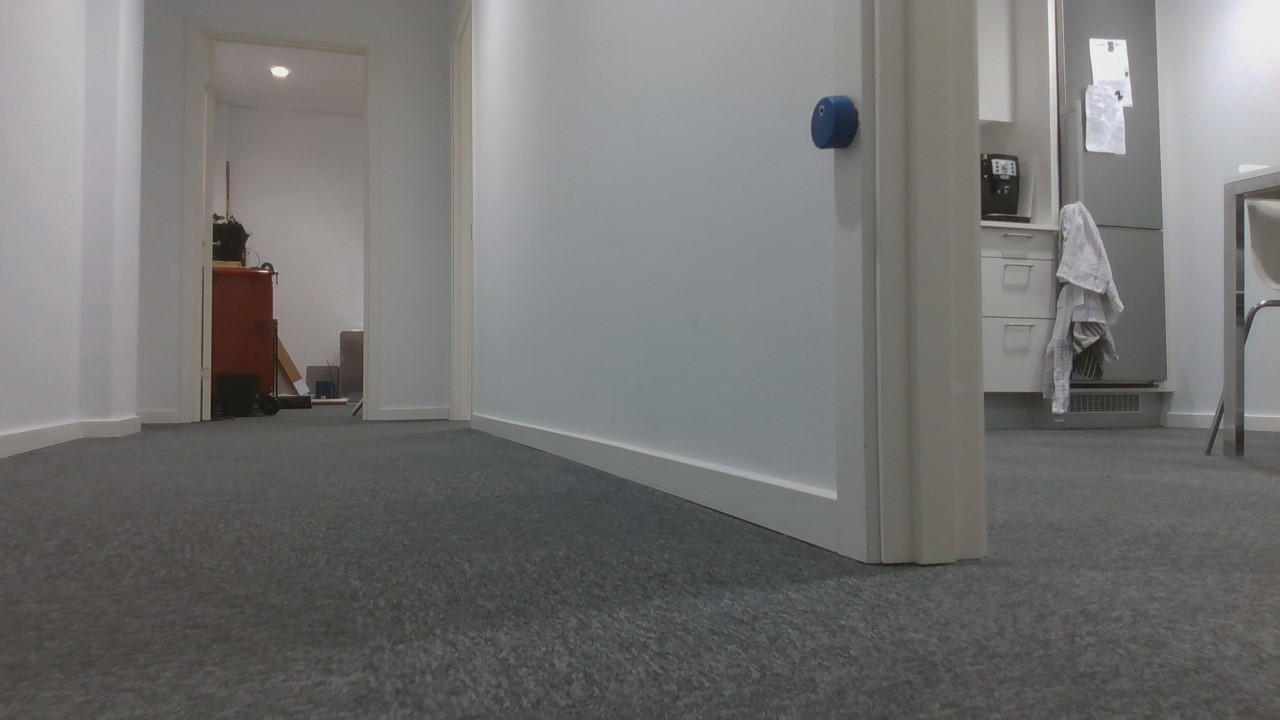alfa: (811, 93, 859, 149)
